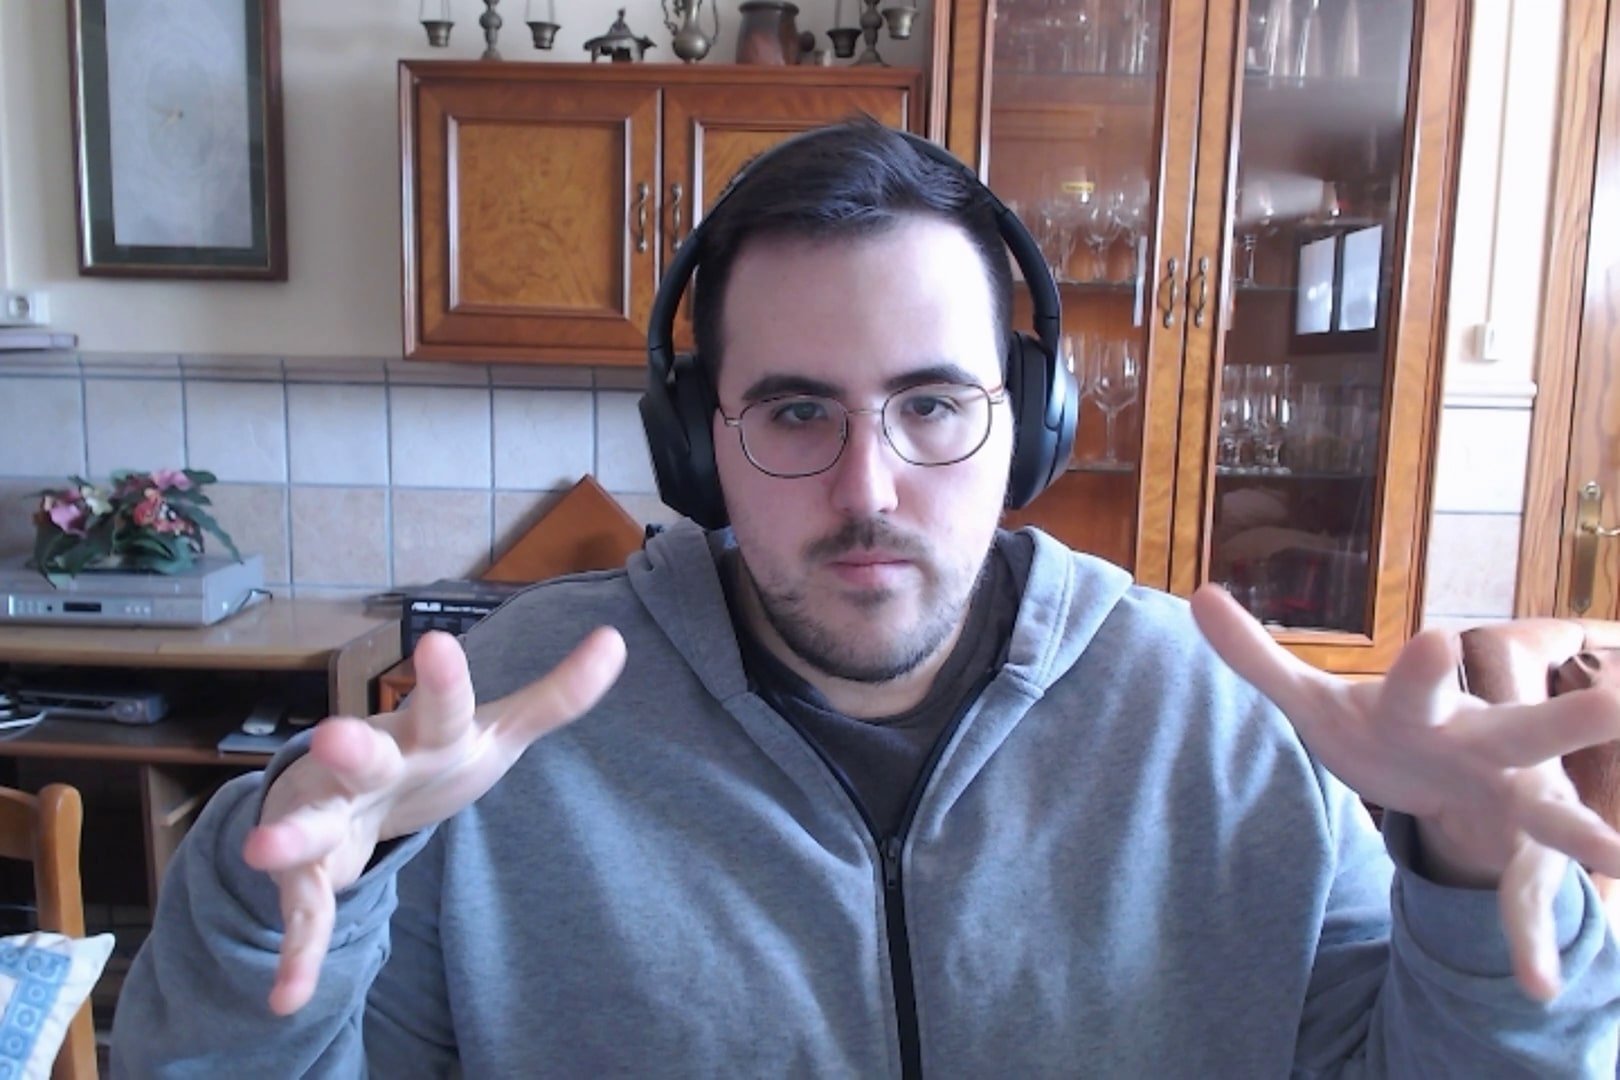hand: (1186, 575, 1620, 1000), (237, 615, 633, 1020)
